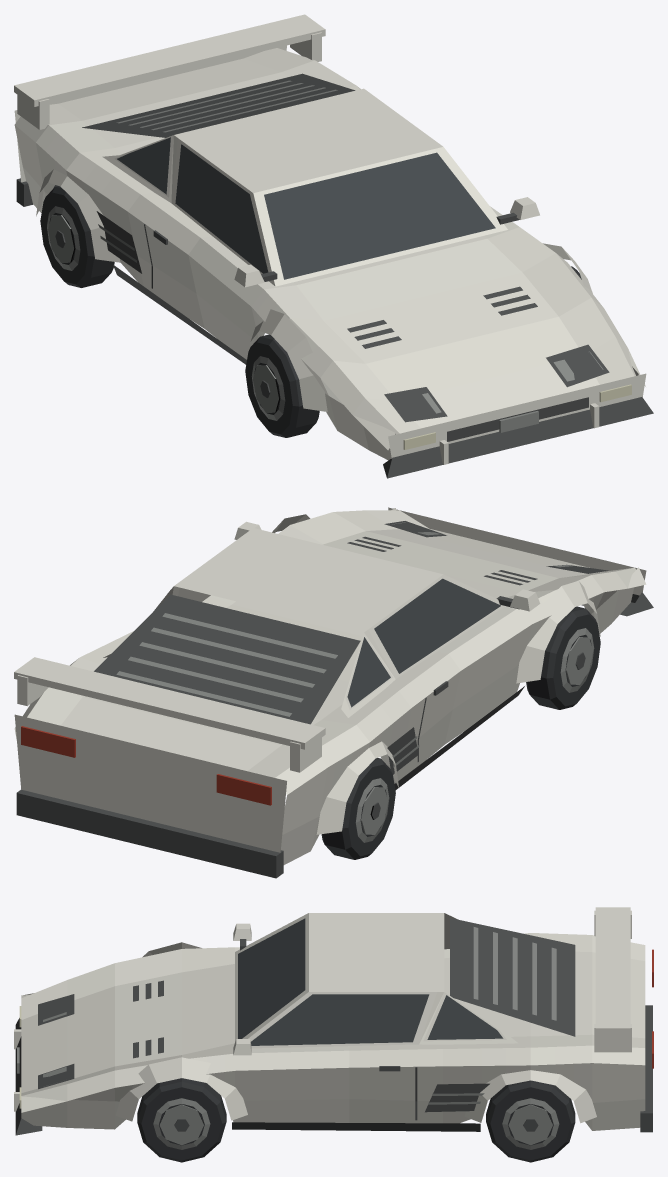
File: arvelle_outlaw_gt.glb
3 views of the same model, one above another, from view 1: azimuth 30°, elevation 25°; view 2: azimuth 150°, elevation 25°; view 3: azimuth 270°, elevation 25° (orthographic). The views are drawn at different scales.
Visible parts, largest first — view 1: Arvelle_Outlaw_GT_Textured; view 2: Arvelle_Outlaw_GT_Textured; view 3: Arvelle_Outlaw_GT_Textured.
Part boxes in pixels (box(x1,y1,x2,y2)): Arvelle_Outlaw_GT_Textured: box(14, 14, 653, 478); Arvelle_Outlaw_GT_Textured: box(14, 507, 653, 878); Arvelle_Outlaw_GT_Textured: box(14, 907, 653, 1162).
Size of the model in its own units: 2.23 by 1.17 by 4.59.
1 material, 1 textured.
